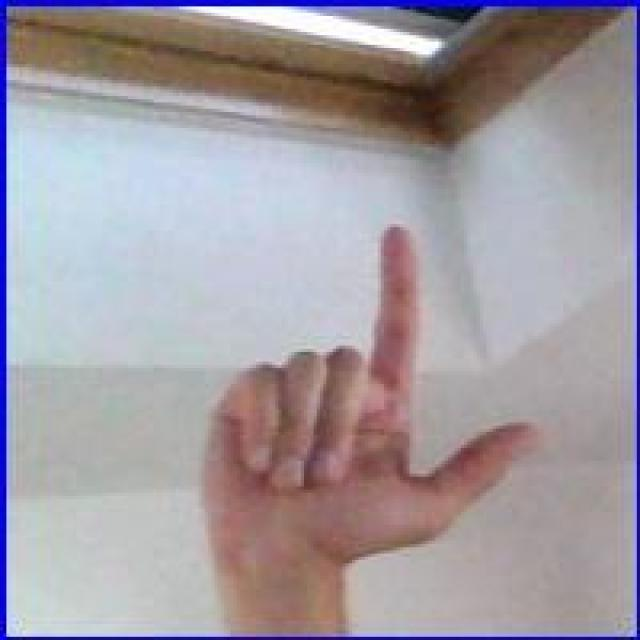L: (190, 216, 546, 578)
